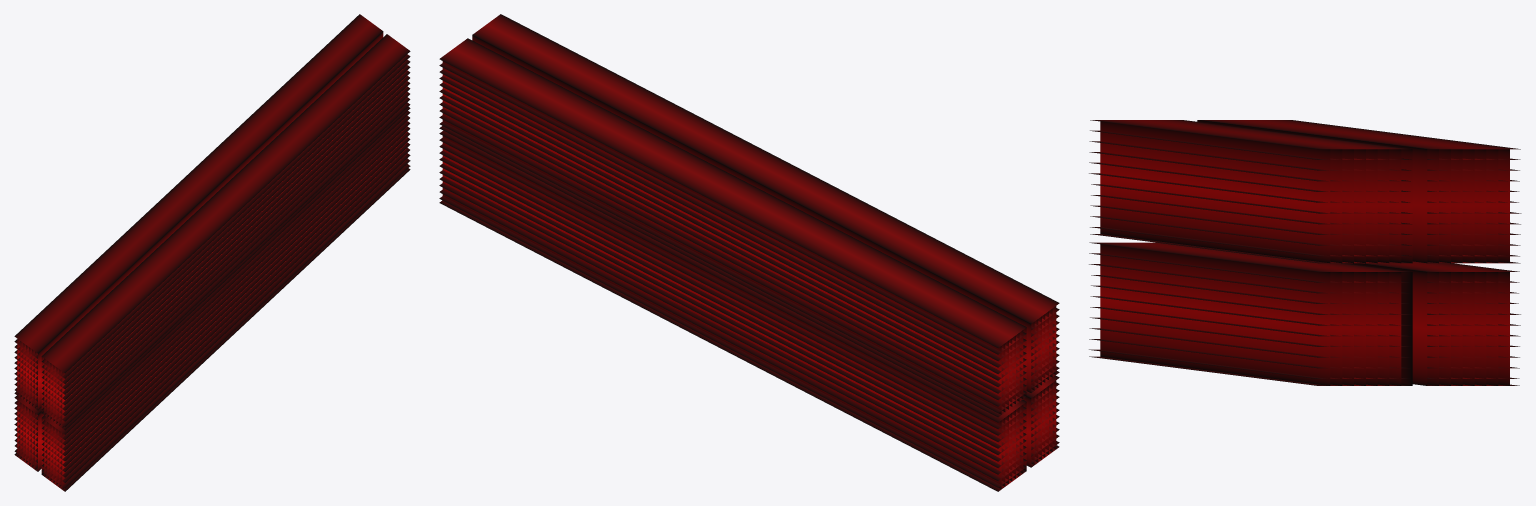
File: WindowRay.fbx
3 views of the same model, side by side, from view 1: azimuth 30°, elevation 25°; view 2: azimuth 150°, elevation 25°; view 3: azimuth 270°, elevation 25° (orthographic). The views are drawn at different scales.
Visible parts, largest first — view 1: WindowRay; view 2: WindowRay; view 3: WindowRay.
Boxes of the visible parts, x1=… form: WindowRay: x1=14, y1=14, x2=410, y2=491; WindowRay: x1=439, y1=14, x2=1059, y2=491; WindowRay: x1=1089, y1=120, x2=1521, y2=385.
Bounding box in the file's own units: 394 × 281 × 183.
